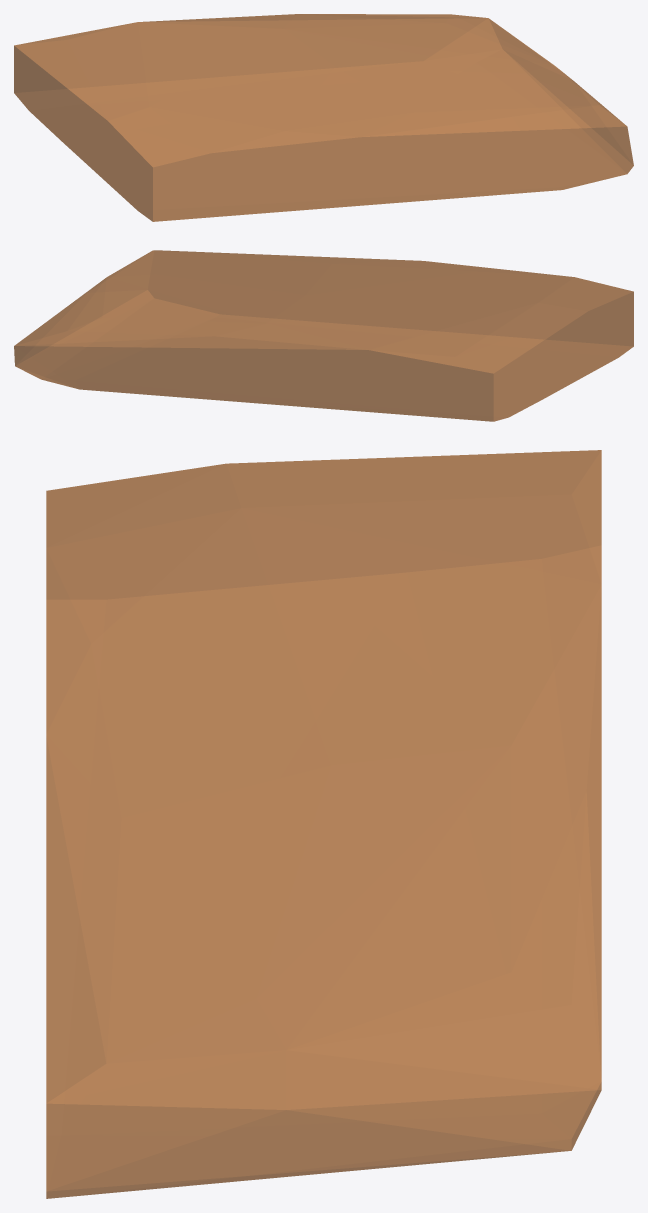
The picture shows the model from 3 angles, top to bottom: view 1: azimuth 30°, elevation 25°; view 2: azimuth 150°, elevation 25°; view 3: azimuth 270°, elevation 25°; orthographic projection. The views are drawn at different scales.
Visible parts, largest first — view 1: Shape_IndexedFaceSet.023_Shape_IndexedFaceSet.4442; view 2: Shape_IndexedFaceSet.023_Shape_IndexedFaceSet.4442; view 3: Shape_IndexedFaceSet.023_Shape_IndexedFaceSet.4442.
Part boxes in pixels (x1,y1,x2,y2): Shape_IndexedFaceSet.023_Shape_IndexedFaceSet.4442: (14, 14, 633, 221); Shape_IndexedFaceSet.023_Shape_IndexedFaceSet.4442: (14, 250, 633, 421); Shape_IndexedFaceSet.023_Shape_IndexedFaceSet.4442: (46, 450, 601, 1198).
Size of the model in its own units: 0.0237 by 0.00673 by 0.0119.
